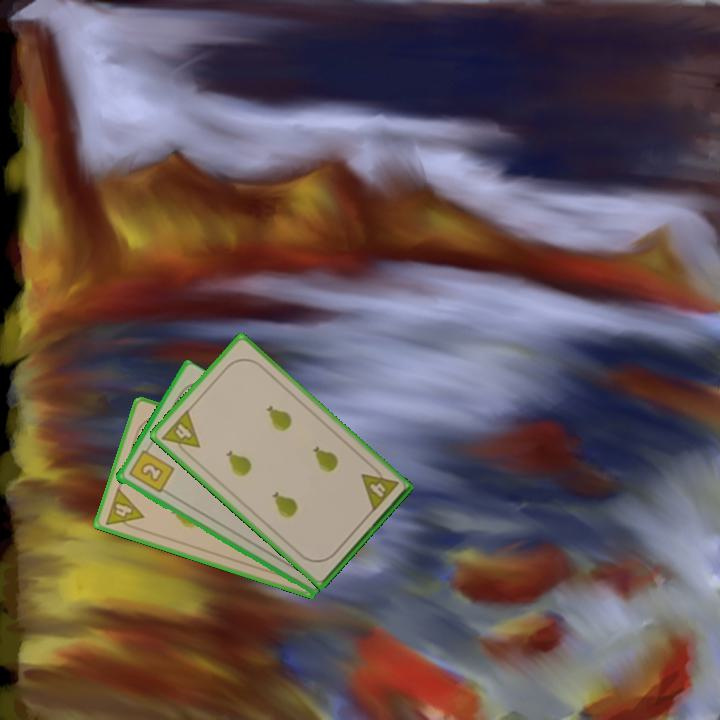2b: (125, 442, 176, 496)
4p: (158, 406, 203, 460), (357, 461, 401, 515), (102, 484, 146, 534)
